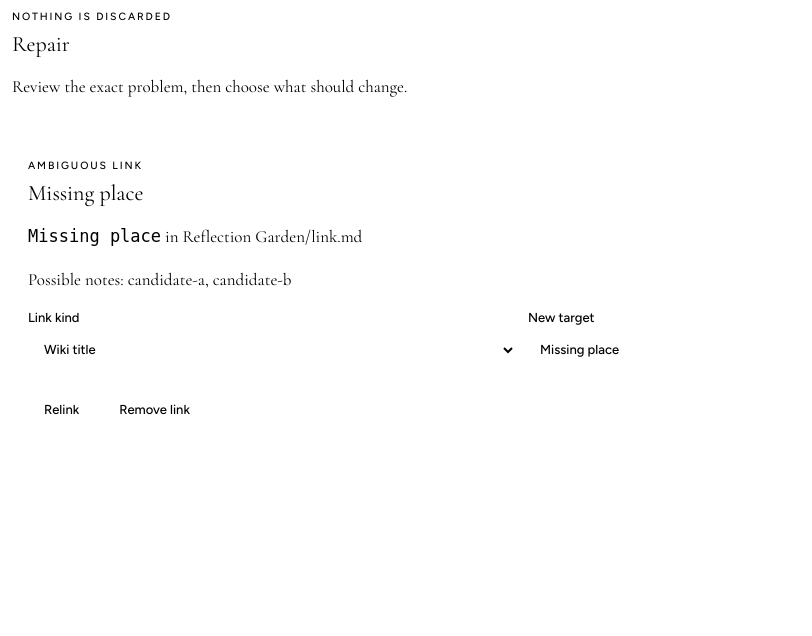
Test: RepairPanel › keeps a conflict visible and restores the exact retry control
Step 1. Click the button "Remove link" → (155, 410), box [103,388,206,432]
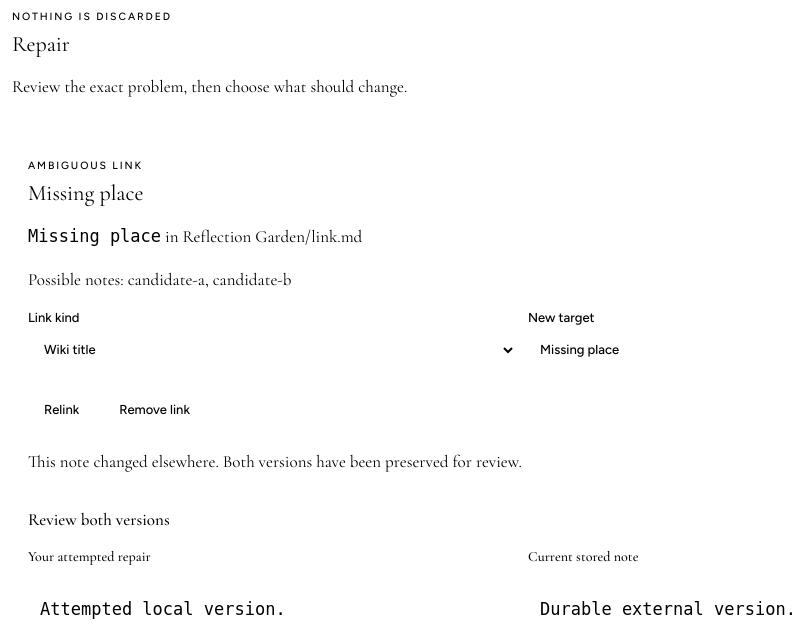
Expected: the message shows "Both versions have been preserved", [28,451,522,472]
Expected: the text "Attempted local version." is shown, [40,599,286,619]
Expected: the text "Durable external version." is shown, [540,599,796,619]
